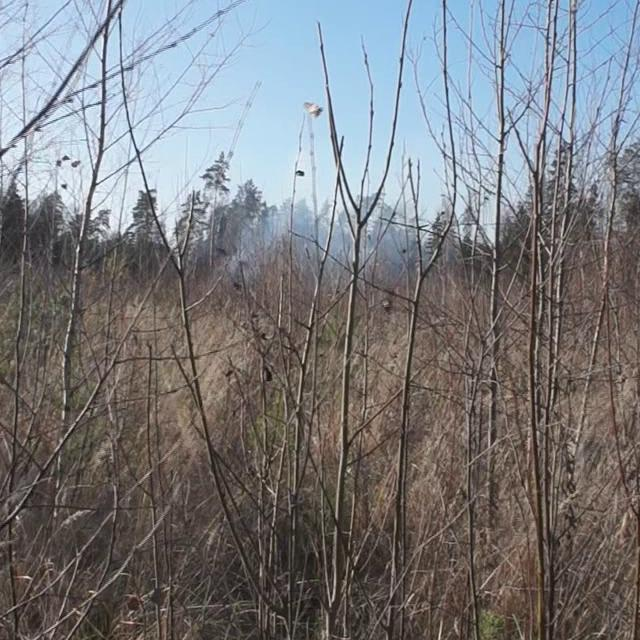Smoke: (218, 181, 420, 298)
